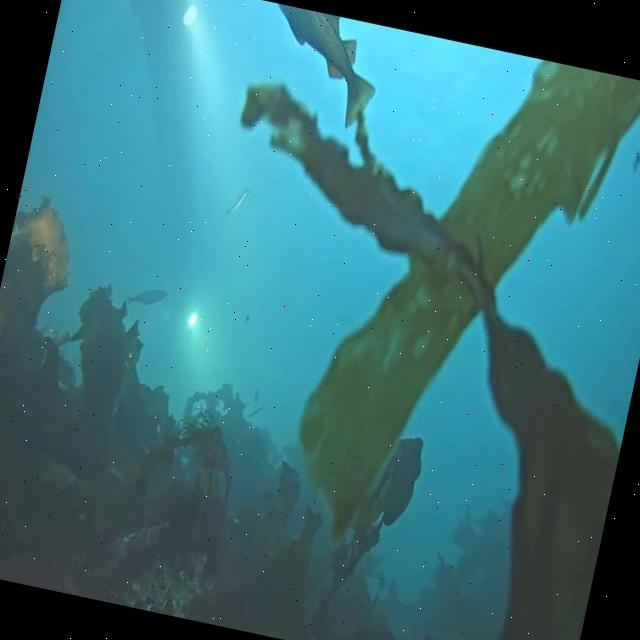fish: (252, 4, 388, 140), (126, 282, 168, 314), (226, 184, 250, 220)
